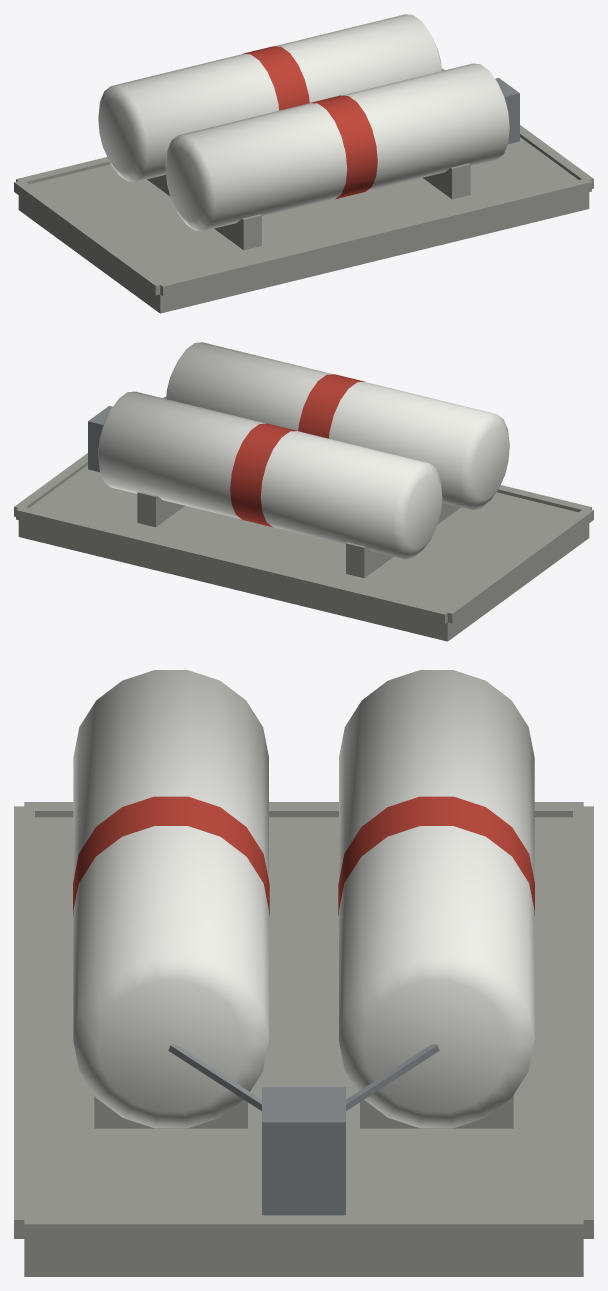
The model's file is airfield-fuel.glb.
3 renders of one model, top to bottom at view 1: azimuth 30°, elevation 25°; view 2: azimuth 150°, elevation 25°; view 3: azimuth 270°, elevation 25°, orthographic. The views are drawn at different scales.
Parts seen in each view (by area): view 1: airfield-fuel: Palm Bay white, airfield-fuel: Palm Bay concrete, airfield-fuel: Palm Bay red, airfield-fuel: Palm Bay steel; view 2: airfield-fuel: Palm Bay white, airfield-fuel: Palm Bay concrete, airfield-fuel: Palm Bay red, airfield-fuel: Palm Bay steel; view 3: airfield-fuel: Palm Bay white, airfield-fuel: Palm Bay concrete, airfield-fuel: Palm Bay steel, airfield-fuel: Palm Bay red.
Part boxes in pixels (bbox=[...]): airfield-fuel: Palm Bay white: bbox=[98, 14, 509, 231]; airfield-fuel: Palm Bay concrete: bbox=[14, 125, 593, 313]; airfield-fuel: Palm Bay red: bbox=[242, 46, 377, 199]; airfield-fuel: Palm Bay steel: bbox=[441, 68, 519, 144]; airfield-fuel: Palm Bay white: bbox=[98, 342, 509, 559]; airfield-fuel: Palm Bay concrete: bbox=[14, 453, 593, 641]; airfield-fuel: Palm Bay red: bbox=[230, 374, 365, 527]; airfield-fuel: Palm Bay steel: bbox=[88, 396, 166, 472]; airfield-fuel: Palm Bay white: bbox=[73, 670, 534, 1128]; airfield-fuel: Palm Bay concrete: bbox=[14, 802, 593, 1276]; airfield-fuel: Palm Bay steel: bbox=[168, 1044, 439, 1215]; airfield-fuel: Palm Bay red: bbox=[73, 796, 534, 915].
Size of the model in its own units: 14.3 by 4.09 by 8.3.
